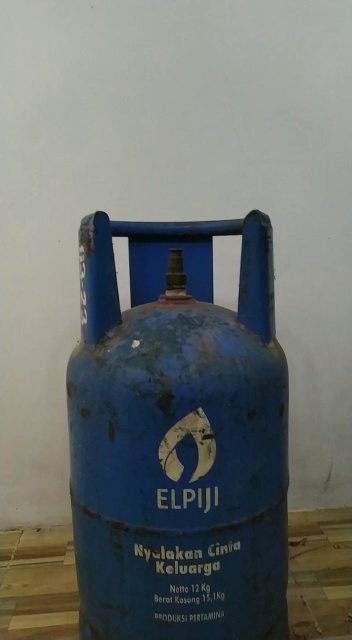blue_gas: (65, 209, 292, 640)
